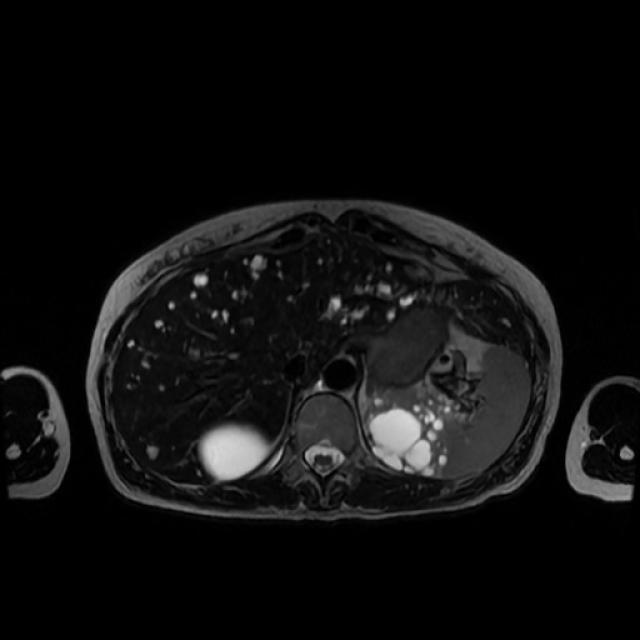sag: (202, 423, 268, 479)
sol: (368, 388, 451, 478)
